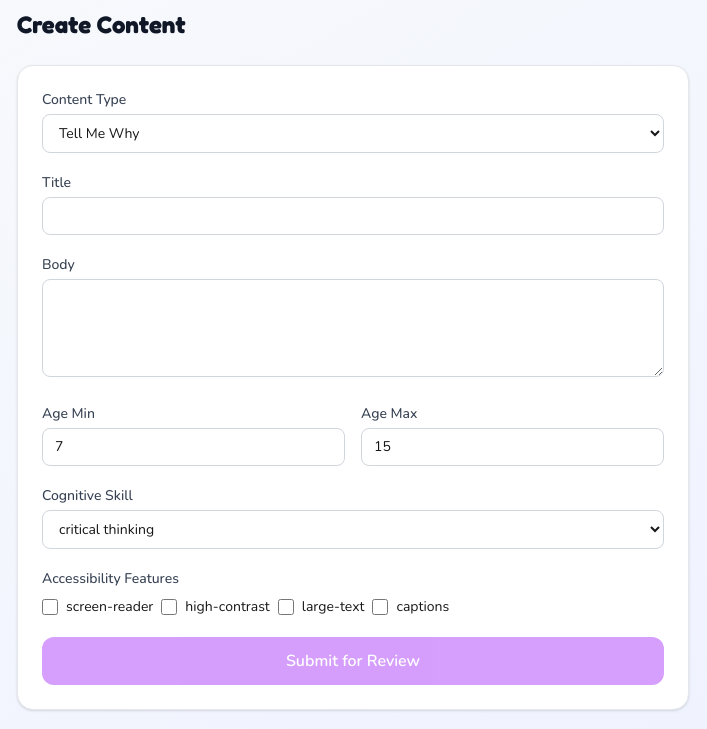
ContentCreatePage — Story 4.1 › AC: submit button enables when title and body are filled
Type "Test Title" into the field with test id "content-title-input" at [353, 216], box [42,197,664,235]
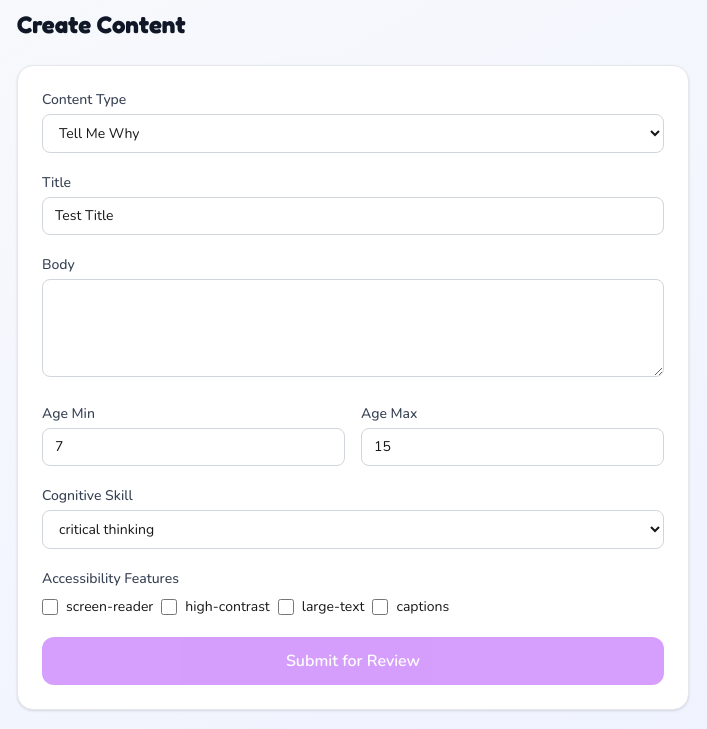
Type "Test body." into the text box with test id "content-body-input" at [353, 328], box [42,279,664,377]
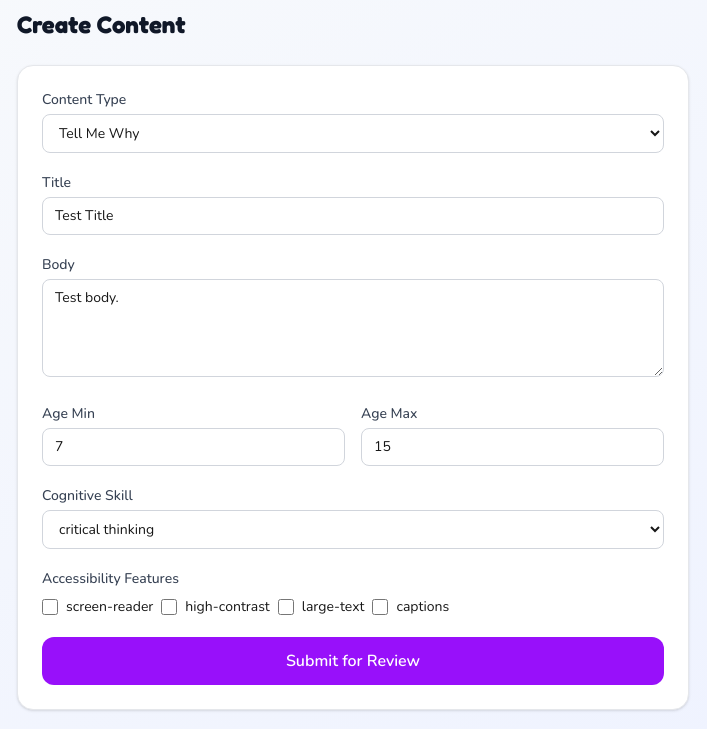
Check: the button with test id "content-submit-button" is enabled, box [42,637,664,685]
